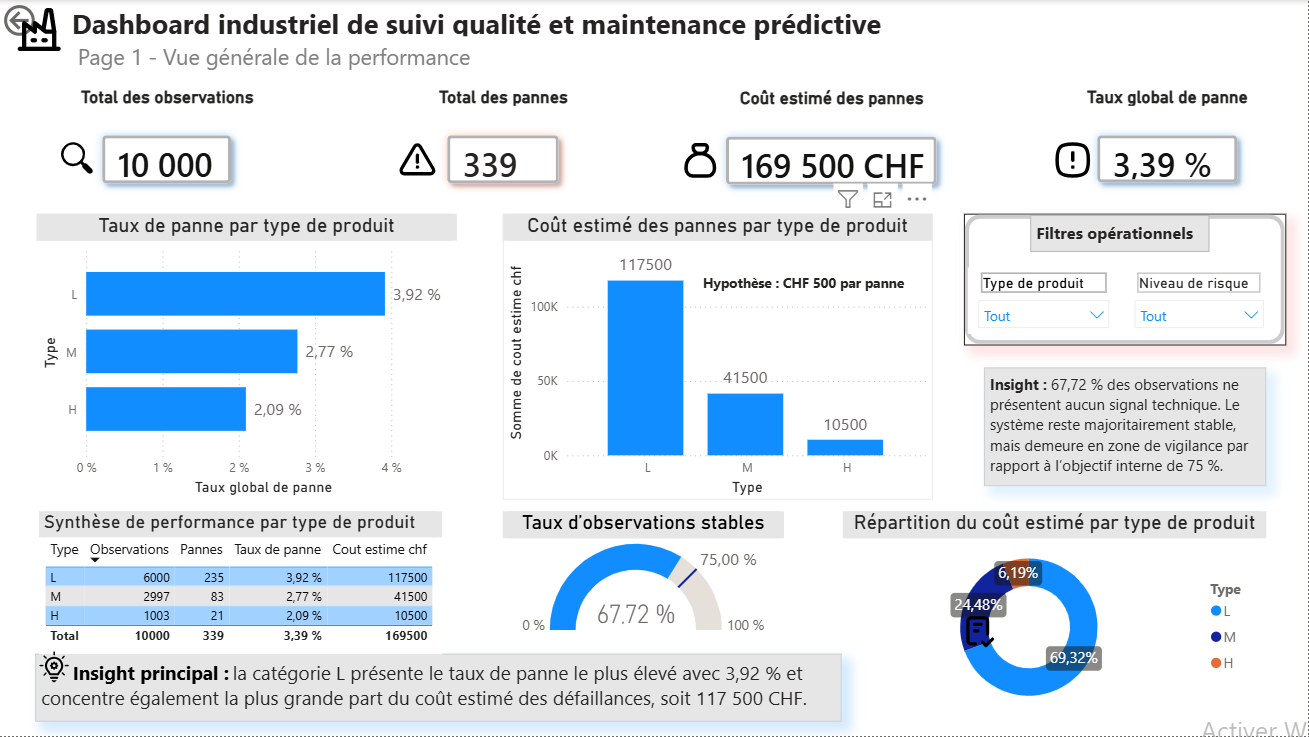

Layout of this report page (visuals, bound fields, positions):
{"tool":"powerbi","page":{"name":"Page 1 Vue générale de la performance","canvas":[1280,720],"ordinal":0},"visuals":[{"type":"cardVisual","title":"Total des pannes","fields":{"Data":["Sum(machine_failures_clean.Machine_failure)"]},"box":[409.1,83.8,167.6,124.5],"z":0},{"type":"cardVisual","title":"Total des observations","fields":{"Data":["causes_defaillance.Total observations KPI"]},"box":[72.7,83.8,184.8,124.5],"z":1000},{"type":"cardVisual","title":"Coût estimé des pannes","fields":{"Data":["causes_defaillance.Coût estimé pannes KPI"]},"box":[682.6,85,264.9,124.5],"z":2000},{"type":"cardVisual","title":"Taux global de panne","fields":{"Data":["machine_failures_clean.Taux global de panne"]},"box":[1045,84.2,195.1,124.2],"z":3000},{"type":"clusteredBarChart","title":"Taux de panne par type de produit","fields":{"Category":["machine_failures_clean.Type"],"Y":["machine_failures_clean.Taux global de panne"]},"box":[36.4,208.9,411,280.3],"z":4000},{"type":"donutChart","title":"Répartition du coût estimé par type de produit","fields":{"Category":["machine_failures_clean.Type"],"Y":["Sum(machine_failures_clean.cout_estime_chf)"]},"box":[825.6,500,414.4,205.6],"z":5000},{"type":"clusteredColumnChart","title":"Coût estimé des pannes par type de produit","fields":{"Category":["machine_failures_clean.Type"],"Y":["Sum(machine_failures_clean.cout_estime_chf)"]},"box":[493.2,208.9,420.5,280.3],"z":6000},{"type":"textbox","box":[61.2,476.1,22.4,62.7],"z":7000},{"type":"textbox","box":[43.8,0,912.5,53.8],"z":8000},{"type":"textbox","box":[72.5,35,405,50],"z":9000},{"type":"textbox","box":[683.3,262.8,218.3,31],"z":10000},{"type":"textbox","box":[36,640,789,66],"z":11000},{"type":"tableEx","title":"Synthèse de performance par type de produit","fields":{"Values":["machine_failures_clean.Type","Count(machine_failures_clean.UDI)","Sum(machine_failures_clean.Machine_failure)","machine_failures_clean.Taux global de panne","Sum(machine_failures_clean.cout_estime_chf)"]},"box":[39,500,394,140],"z":12000},{"type":"actionButton","box":[0,0,100,40],"z":13000},{"type":"gauge","title":"Taux d’observations stables","fields":{"Y":["machine_failures_clean.Taux observations stables"],"MinValue":["machine_failures_clean.Min observations stables"],"MaxValue":["machine_failures_clean.Max observations stables"],"TargetValue":["machine_failures_clean.Objectif observations stables"]},"box":[492.5,500,275,126.2],"z":14000},{"type":"textbox","box":[963.6,359.8,276.3,115.9],"z":15000},{"type":"image","box":[1028.8,136.2,43.8,41.2],"z":16000},{"type":"image","box":[390,136.2,38.8,42.5],"z":17000},{"type":"image","box":[936.2,597.5,45,38.8],"z":18000},{"type":"image","box":[665,136.2,41.2,42.5],"z":19000},{"type":"image","box":[52.5,136.2,47.5,37.5],"z":20000},{"type":"image","box":[32.5,636.2,42.5,33.8],"z":21000},{"type":"image","box":[6.2,3.8,66.2,50],"z":22000},{"type":"shape","box":[943.8,208.8,315,128.8],"z":23000},{"type":"slicer","fields":{"Values":["machine_failures_clean.Type"]},"box":[947.5,261.2,148.8,65],"z":24000},{"type":"textbox","box":[1008.8,210,175,36.2],"z":25000},{"type":"slicer","fields":{"Values":["machine_failures_clean.niveau_risque"]},"box":[1101.1,261.7,146.8,64.9],"z":26000}]}

Visuals, with their boxes in screenshot pixels (x1, y1, x2, y2), scaled from the page's 1280x720 canvas onto the 1309x737 screenshot:
"Total des pannes" cardVisual: bbox=(418, 86, 590, 213)
"Total des observations" cardVisual: bbox=(74, 86, 263, 213)
"Coût estimé des pannes" cardVisual: bbox=(698, 87, 969, 214)
"Taux global de panne" cardVisual: bbox=(1069, 86, 1268, 213)
"Taux de panne par type de produit" clusteredBarChart: bbox=(37, 214, 458, 501)
"Répartition du coût estimé par type de produit" donutChart: bbox=(844, 512, 1268, 722)
"Coût estimé des pannes par type de produit" clusteredColumnChart: bbox=(504, 214, 934, 501)
textbox: bbox=(63, 487, 85, 552)
textbox: bbox=(45, 0, 978, 55)
textbox: bbox=(74, 36, 488, 87)
textbox: bbox=(699, 269, 922, 301)
textbox: bbox=(37, 655, 844, 723)
"Synthèse de performance par type de produit" tableEx: bbox=(40, 512, 443, 655)
actionButton: bbox=(0, 0, 102, 41)
"Taux d’observations stables" gauge: bbox=(504, 512, 785, 641)
textbox: bbox=(985, 368, 1268, 487)
image: bbox=(1052, 139, 1097, 182)
image: bbox=(399, 139, 439, 183)
image: bbox=(957, 612, 1003, 651)
image: bbox=(680, 139, 722, 183)
image: bbox=(54, 139, 102, 178)
image: bbox=(33, 651, 77, 686)
image: bbox=(6, 4, 74, 55)
shape: bbox=(965, 214, 1287, 346)
slicer - machine_failures_clean.Type: bbox=(969, 267, 1121, 334)
textbox: bbox=(1032, 215, 1211, 252)
slicer - machine_failures_clean.niveau_risque: bbox=(1126, 268, 1276, 334)
